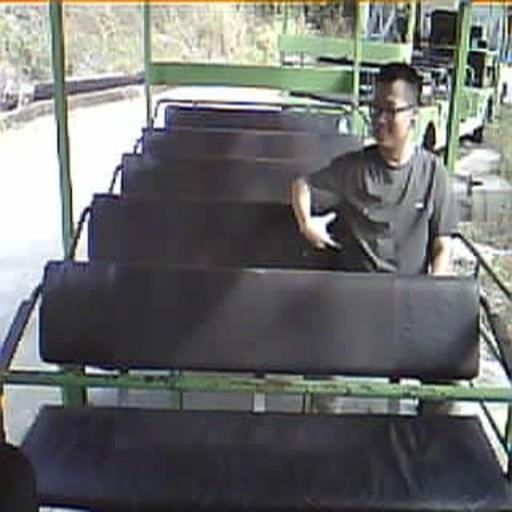persona: (288, 60, 462, 276)
